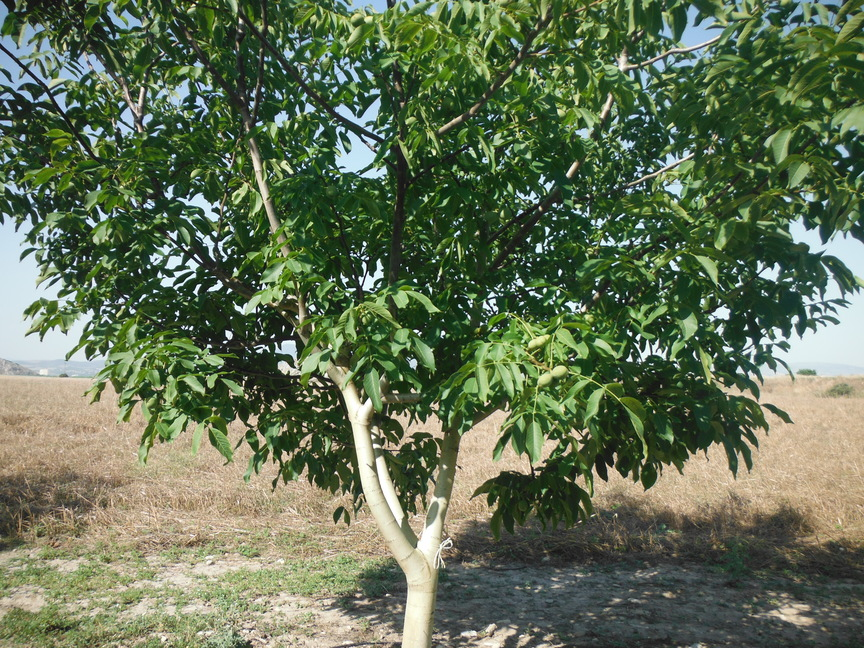walnut: (550, 361, 575, 383), (534, 370, 556, 391), (440, 93, 458, 116), (323, 181, 341, 203), (143, 393, 161, 414), (359, 309, 377, 327), (348, 11, 365, 29), (553, 105, 570, 123), (515, 497, 531, 515), (362, 11, 378, 28), (497, 205, 514, 221), (581, 311, 598, 327), (93, 79, 109, 95), (482, 208, 499, 223), (534, 334, 547, 349), (527, 337, 540, 351), (543, 329, 555, 344)
